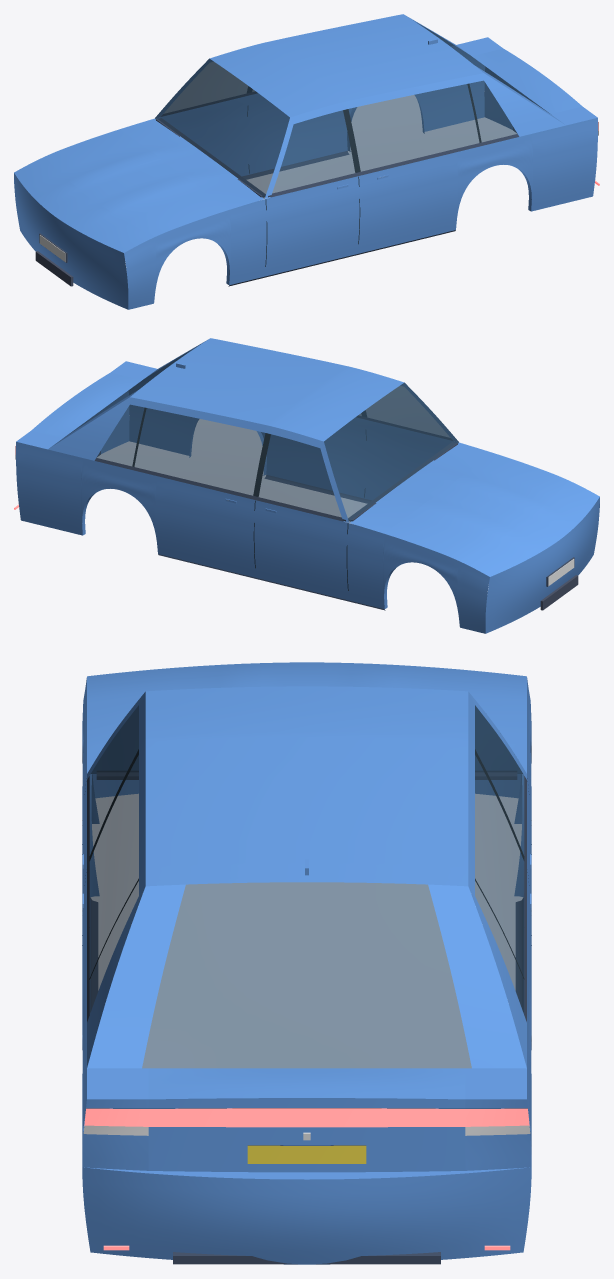
File: saloon.glb
3 views of the same model, one above another, from view 1: azimuth 30°, elevation 25°; view 2: azimuth 150°, elevation 25°; view 3: azimuth 270°, elevation 25° (orthographic). The views are drawn at different scales.
Visible parts, largest first — view 1: BodyShell, Tailgate; view 2: BodyShell, Tailgate; view 3: BodyShell, Tailgate.
Part boxes in pixels (x1,y1,x2,y2): BodyShell: (14,14,599,309); Tailgate: (472,48,582,113); BodyShell: (14,338,599,633); Tailgate: (31,372,141,437); BodyShell: (82,662,531,1264); Tailgate: (148,1068,465,1172).
Size of the model in its own units: 474 by 132 by 184.
